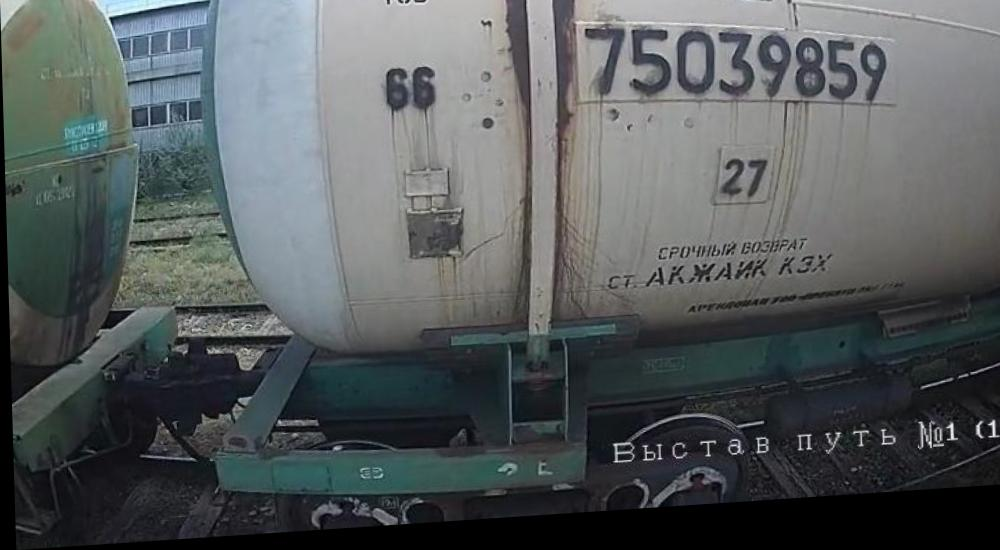Wagon-number: (580, 16, 893, 134)
